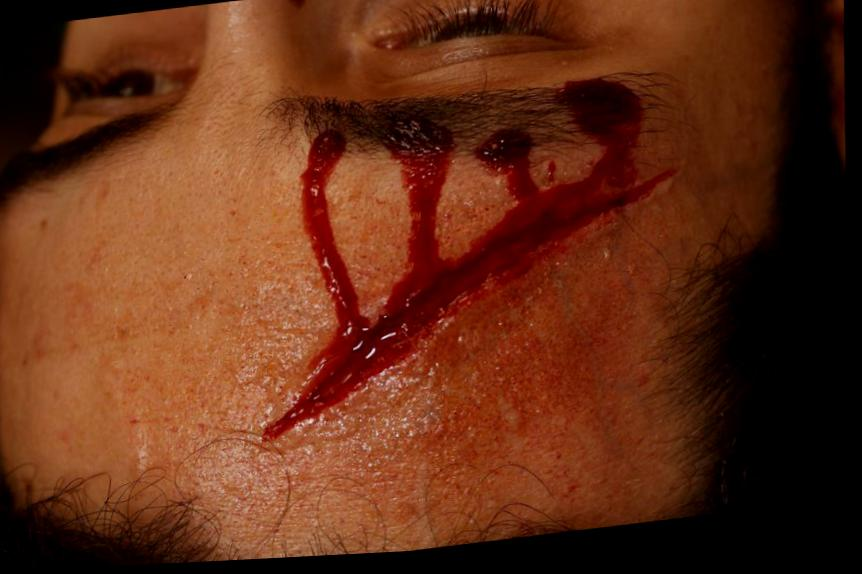Fire: (268, 86, 674, 442)
